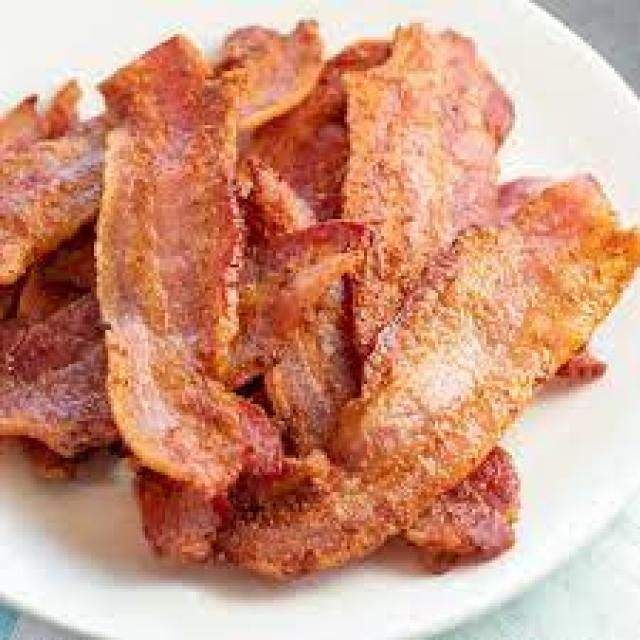bacon: (104, 79, 268, 479)
